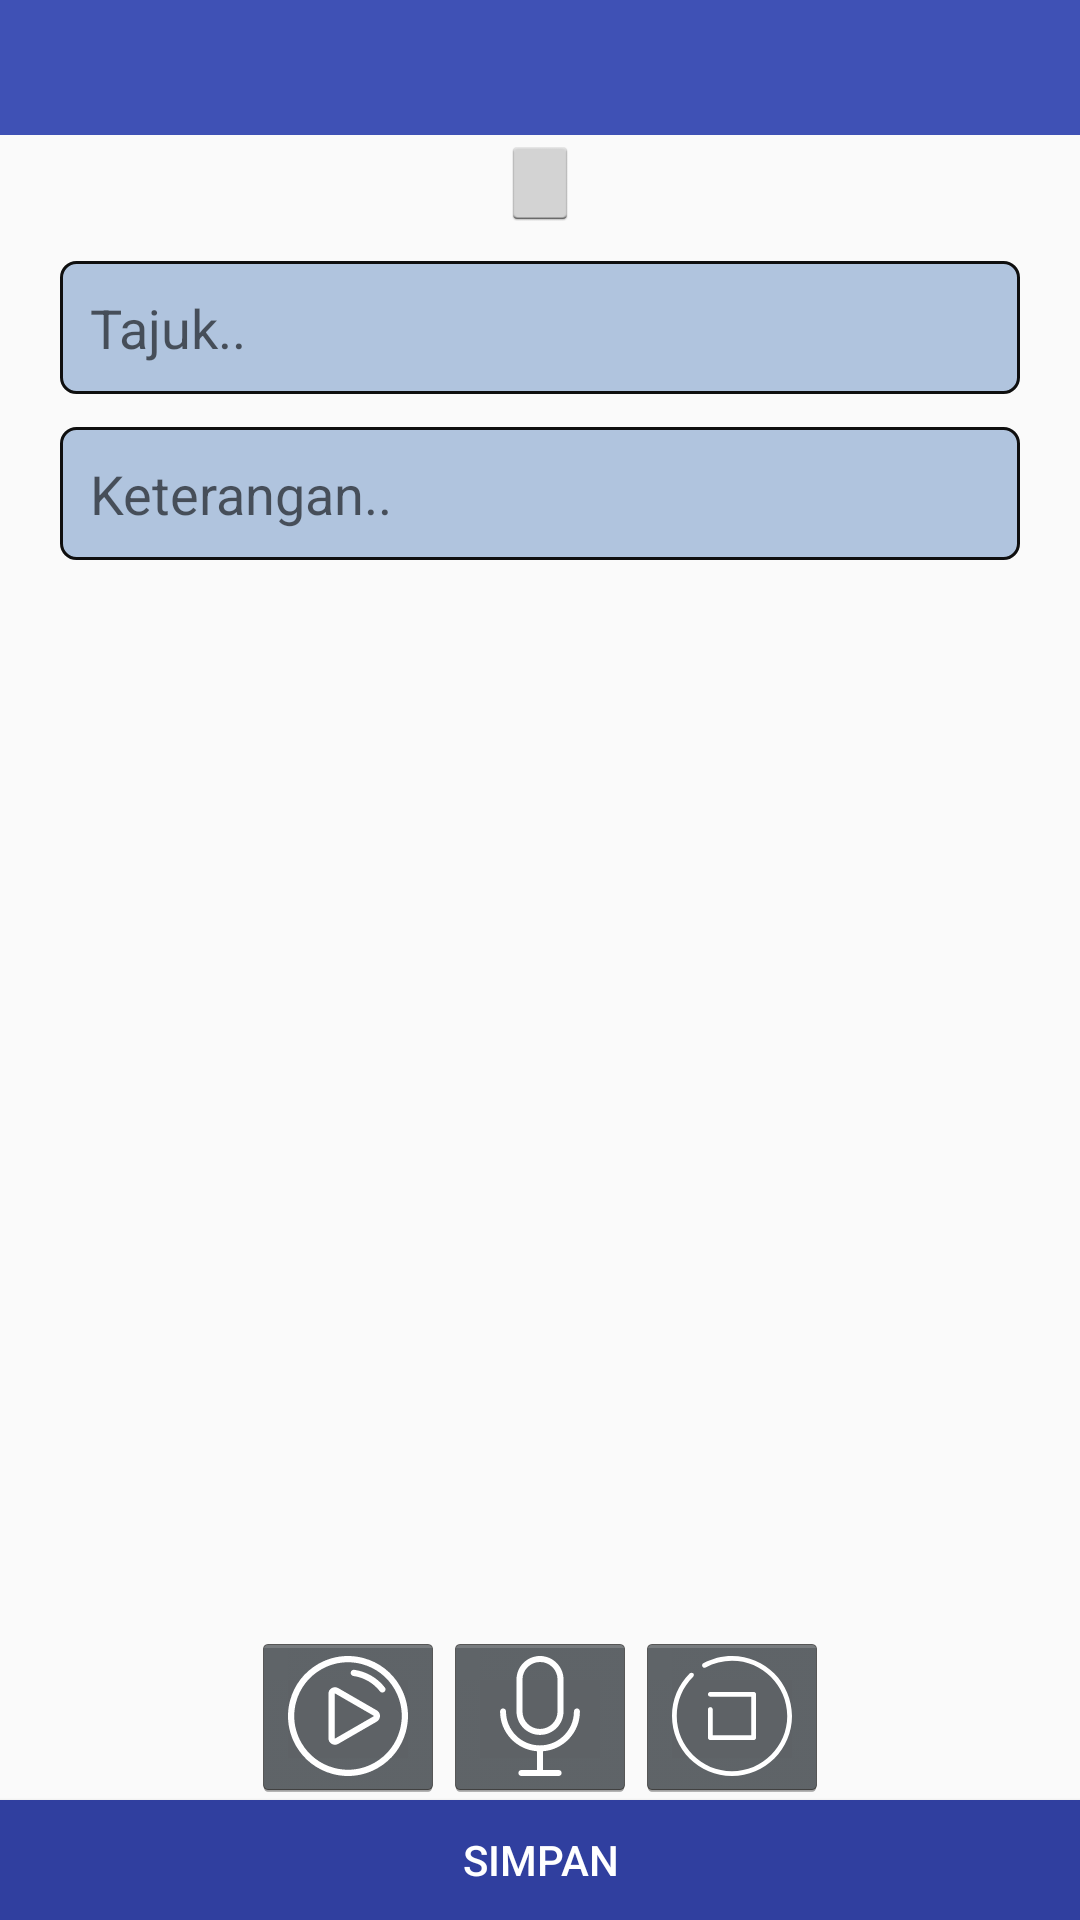

Named icons in this screenshot (1080px×1920px) and their centers, (x,y):
play: (348,1718)
record: (540,1718)
stop: (732,1718)
